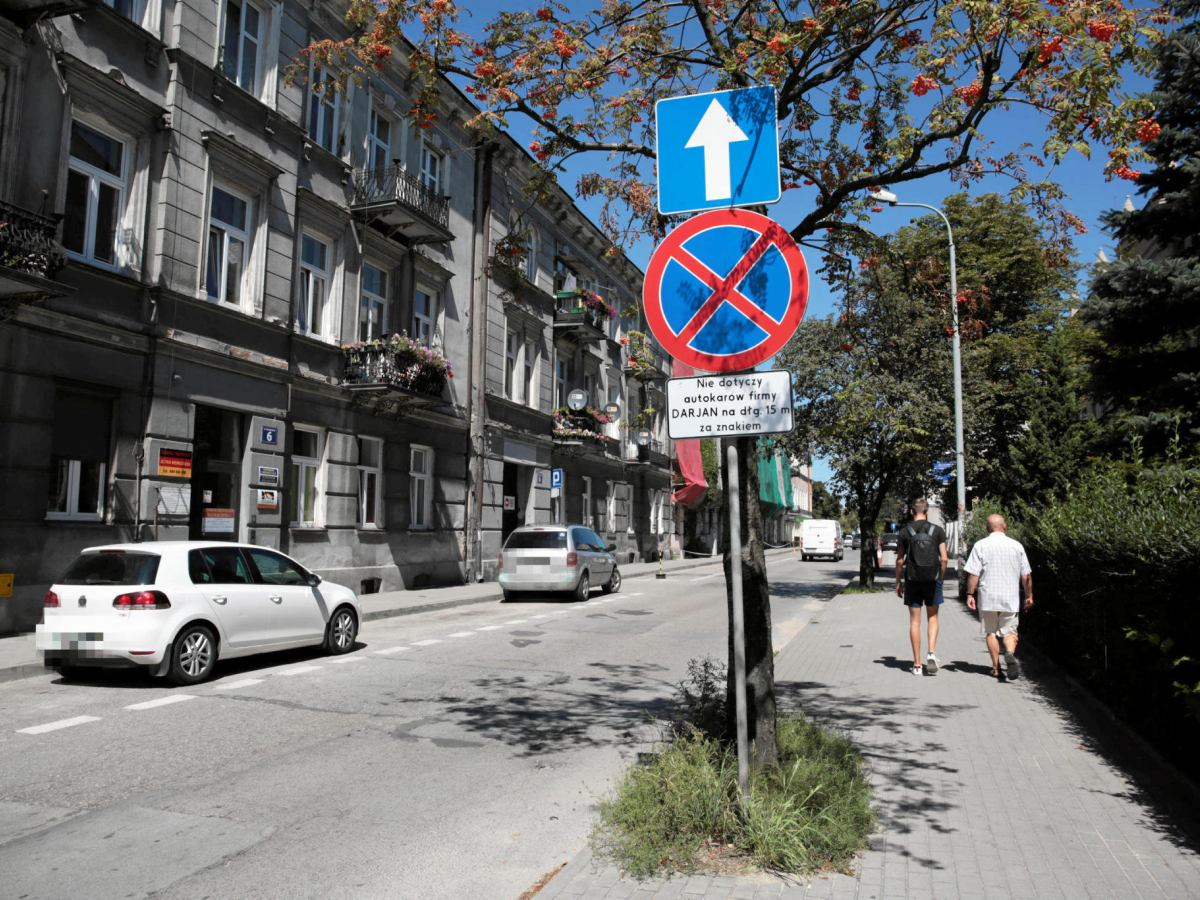no_stopping_sign: (637, 208, 811, 375)
